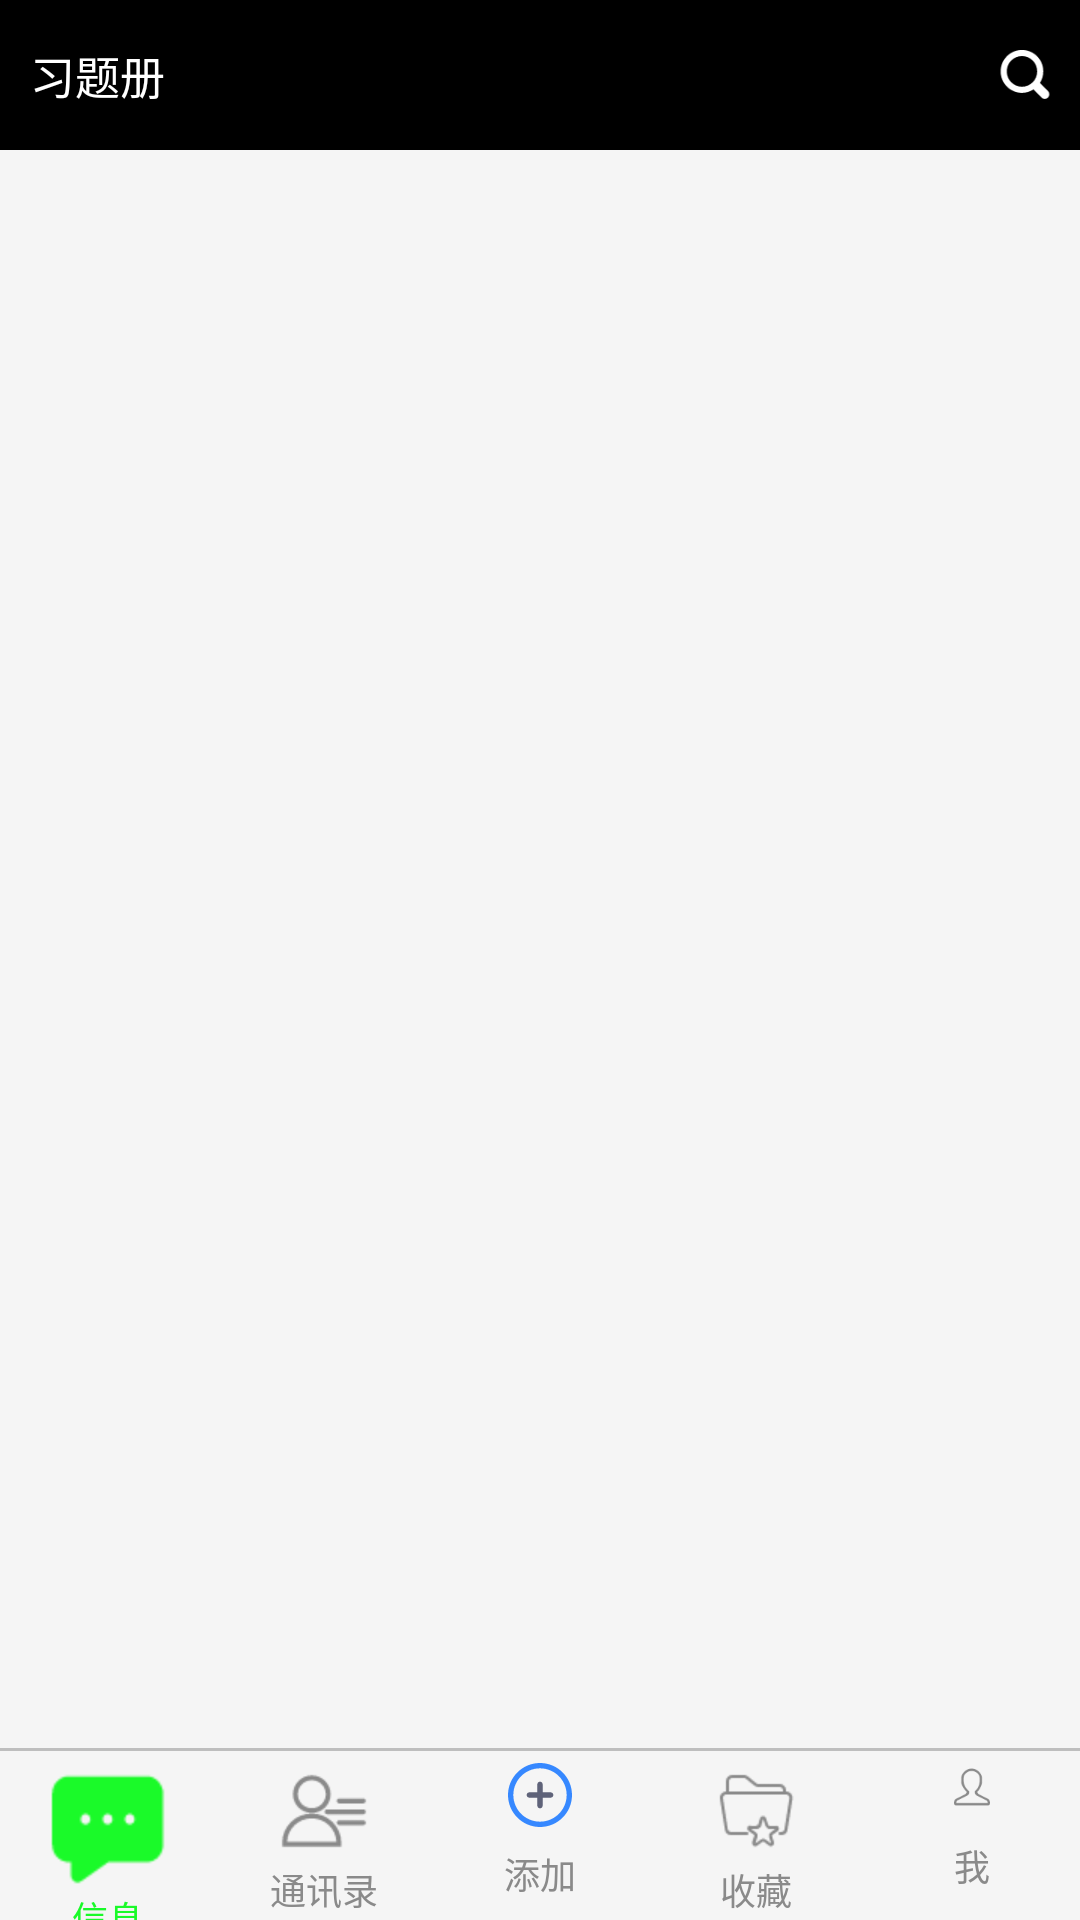

Screen size 1080w x 1920h. Icon name, then its center in pixels as [x,y]:
search: [1025,74]
